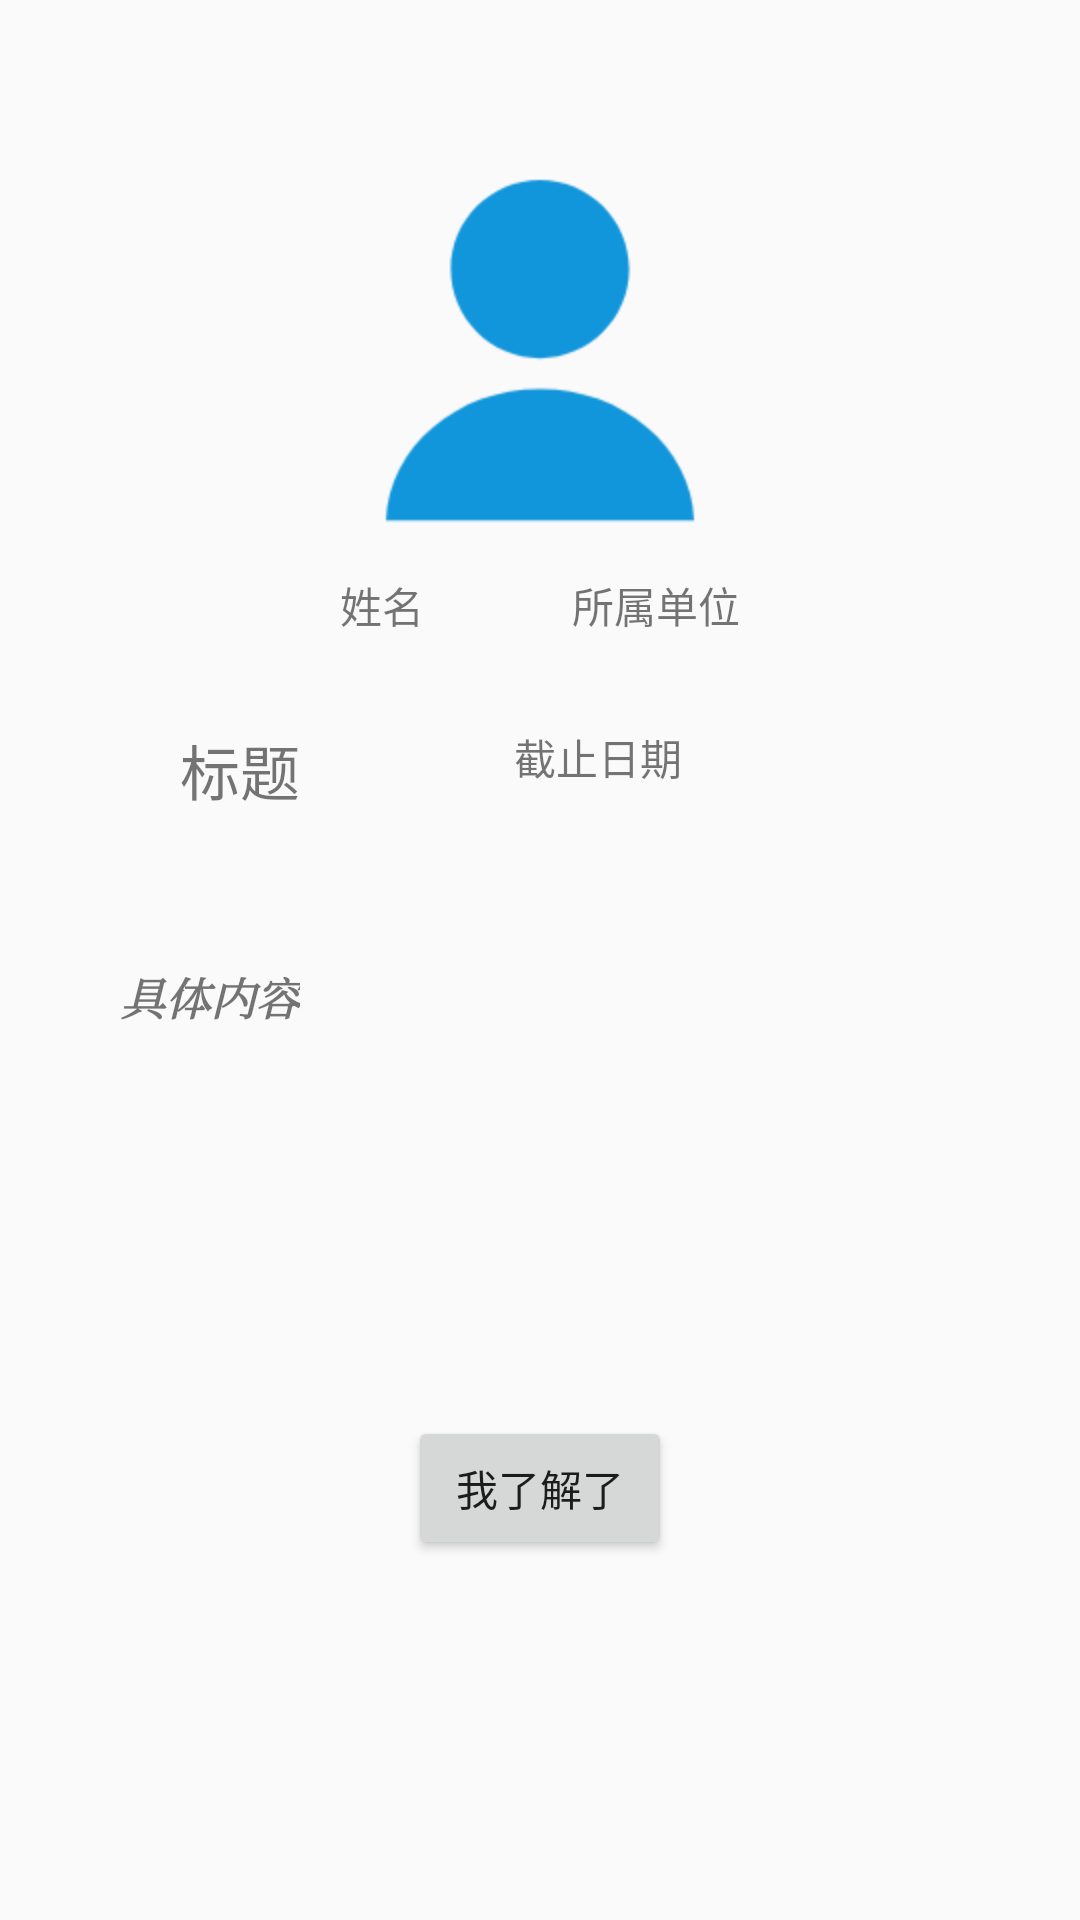

Named icons in this screenshot (1080px×1920px) and their centers, [x,y]:
user: [540,350]
